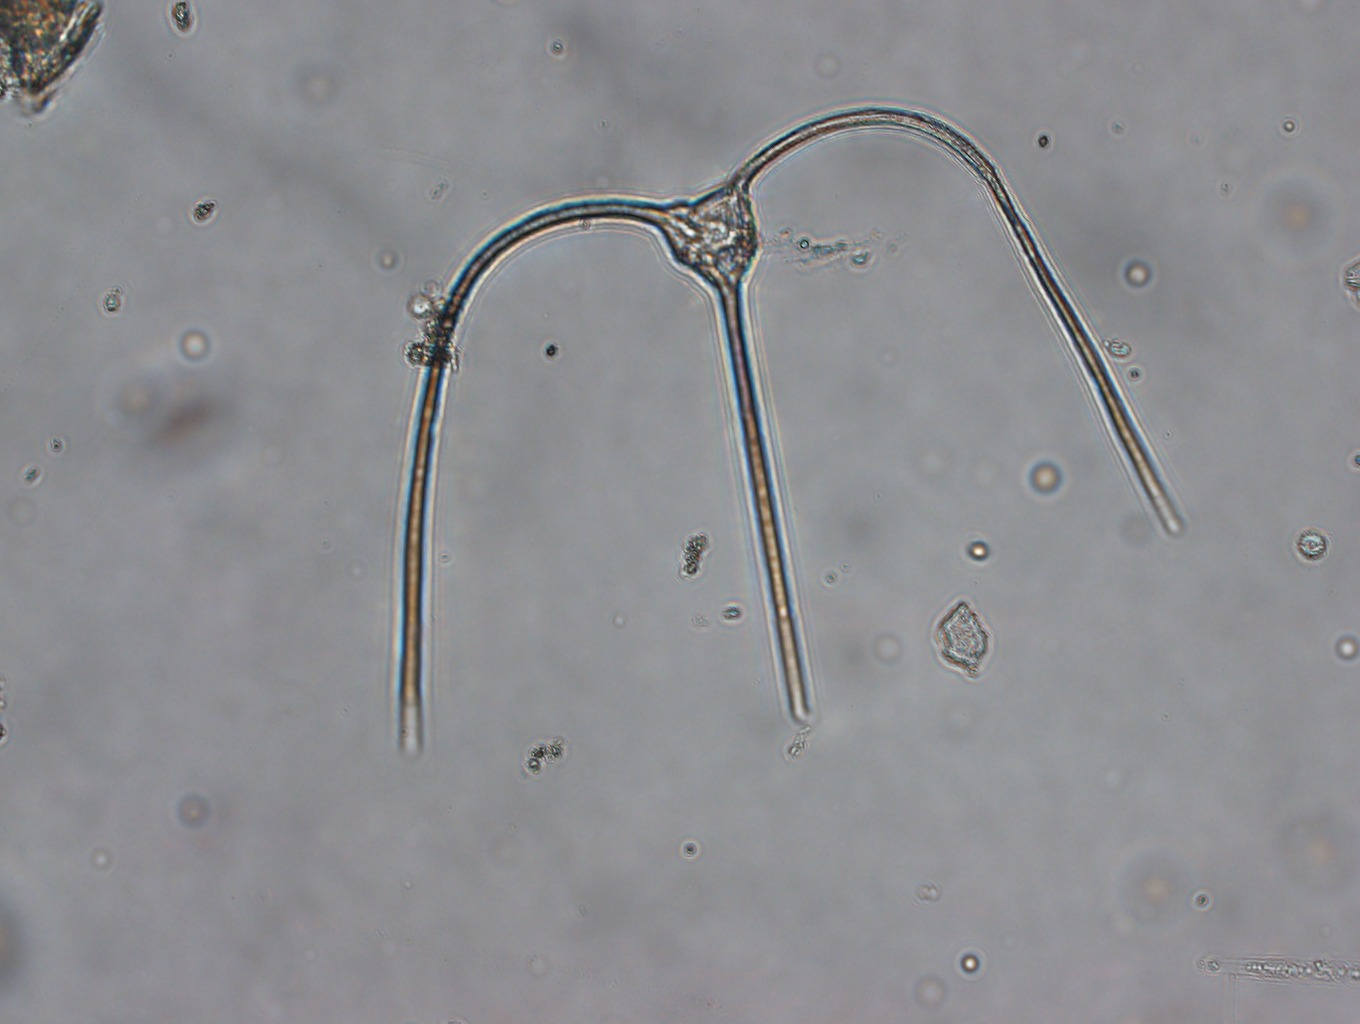ceratium trichoceros: (382, 86, 1193, 762)
